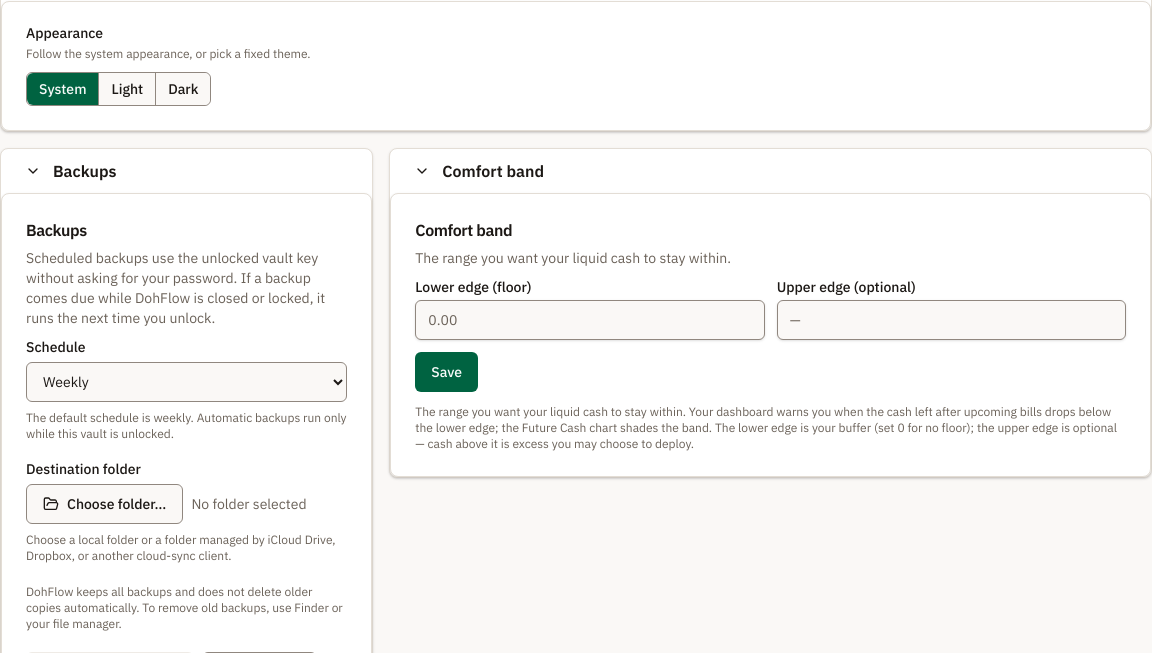
Test: the Settings sections (personal-cfo-4d8.39.1) › collapsing hides and inerts a section but keeps its draft; expanding brings it back
(page scrolled)
Type "1234" into the field labelled "Lower edge (floor)" at (590, 320), box [415,300,765,340]
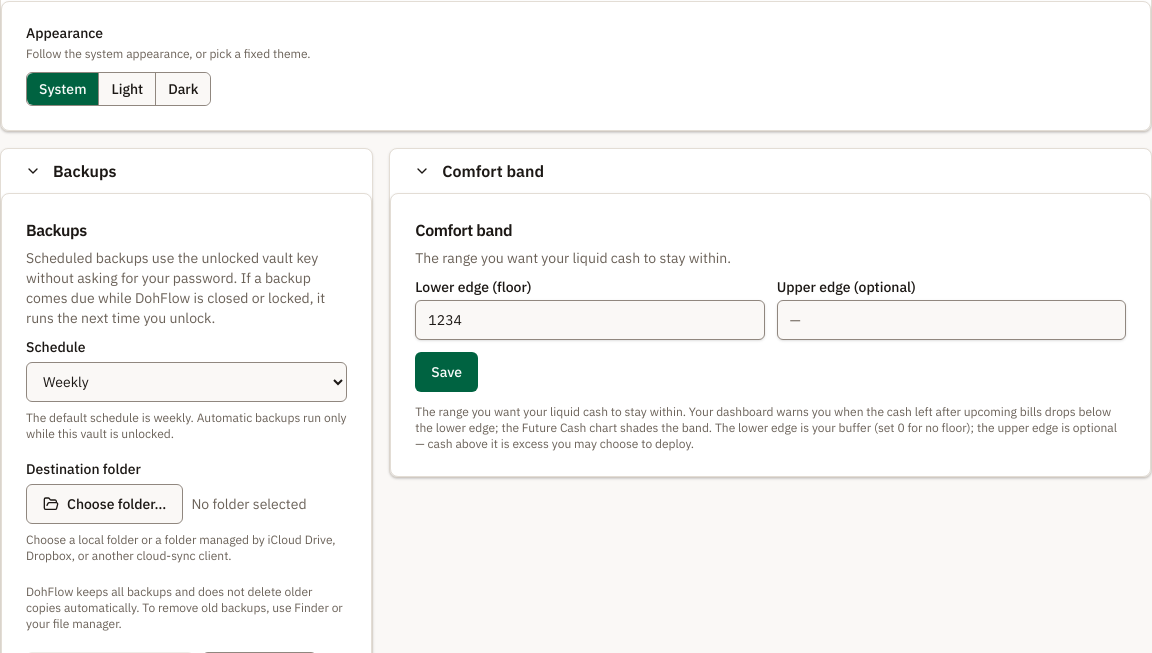
Click the button "Comfort band" at (493, 171), box [390,149,1151,193]
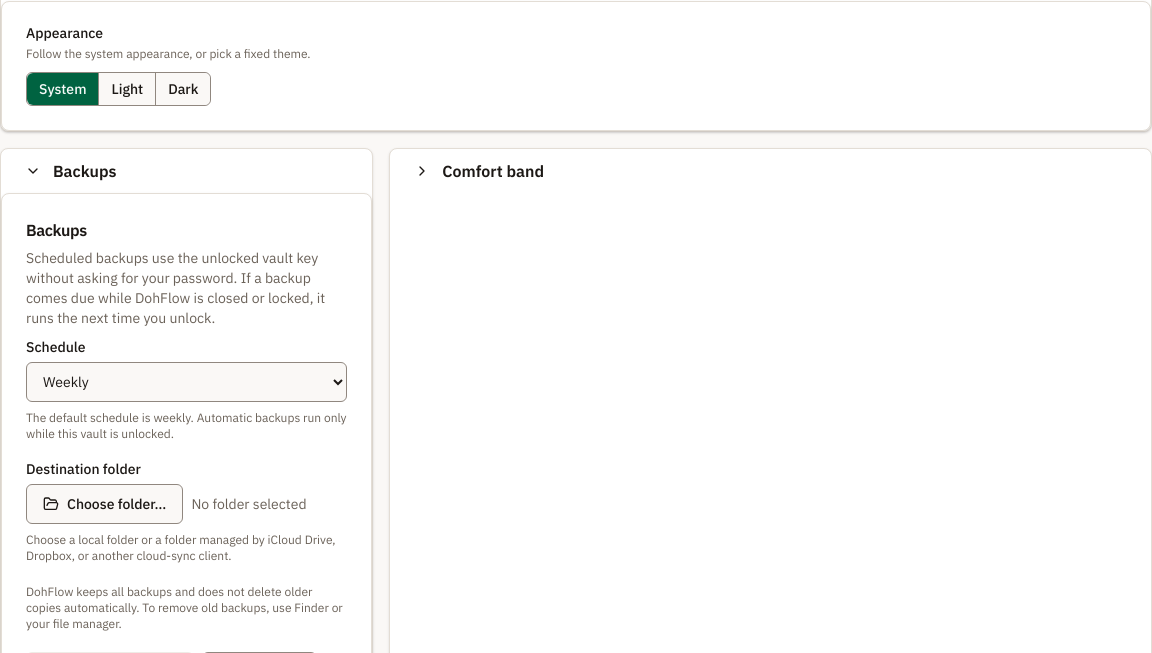
Expected: the button "Comfort band" is collapsed
Click the button "Comfort band" at (493, 171), box [390,149,1151,193]
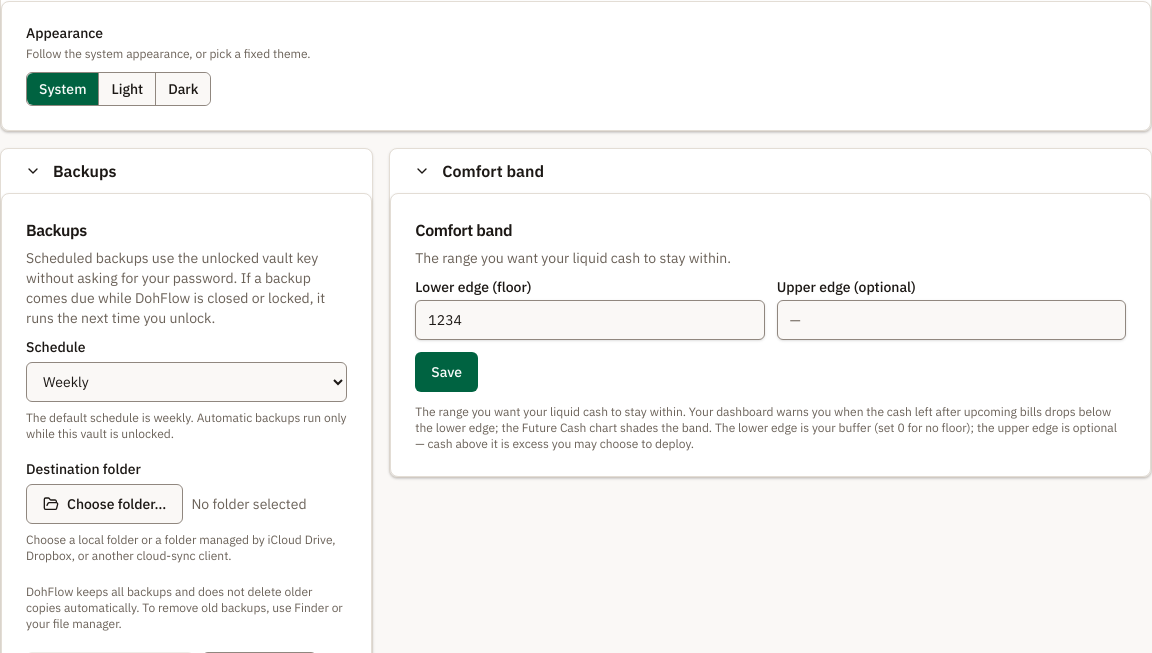
Expected: the button "Comfort band" is expanded, [390,149,1151,193]
